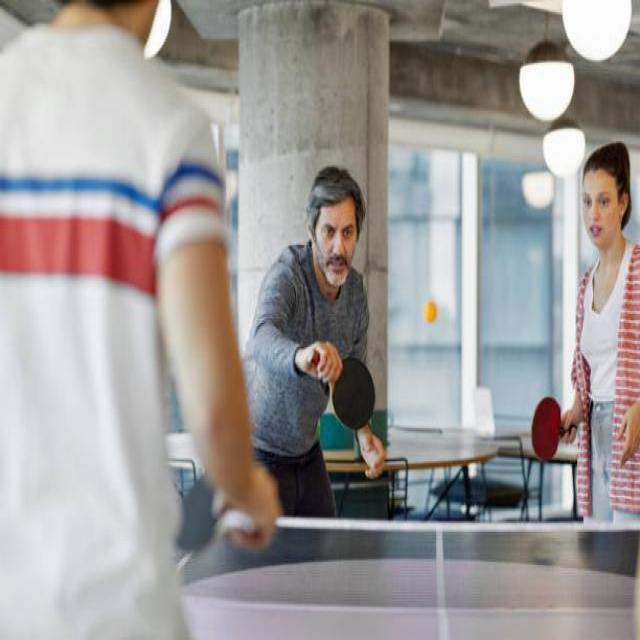oball: (422, 300, 436, 322)
